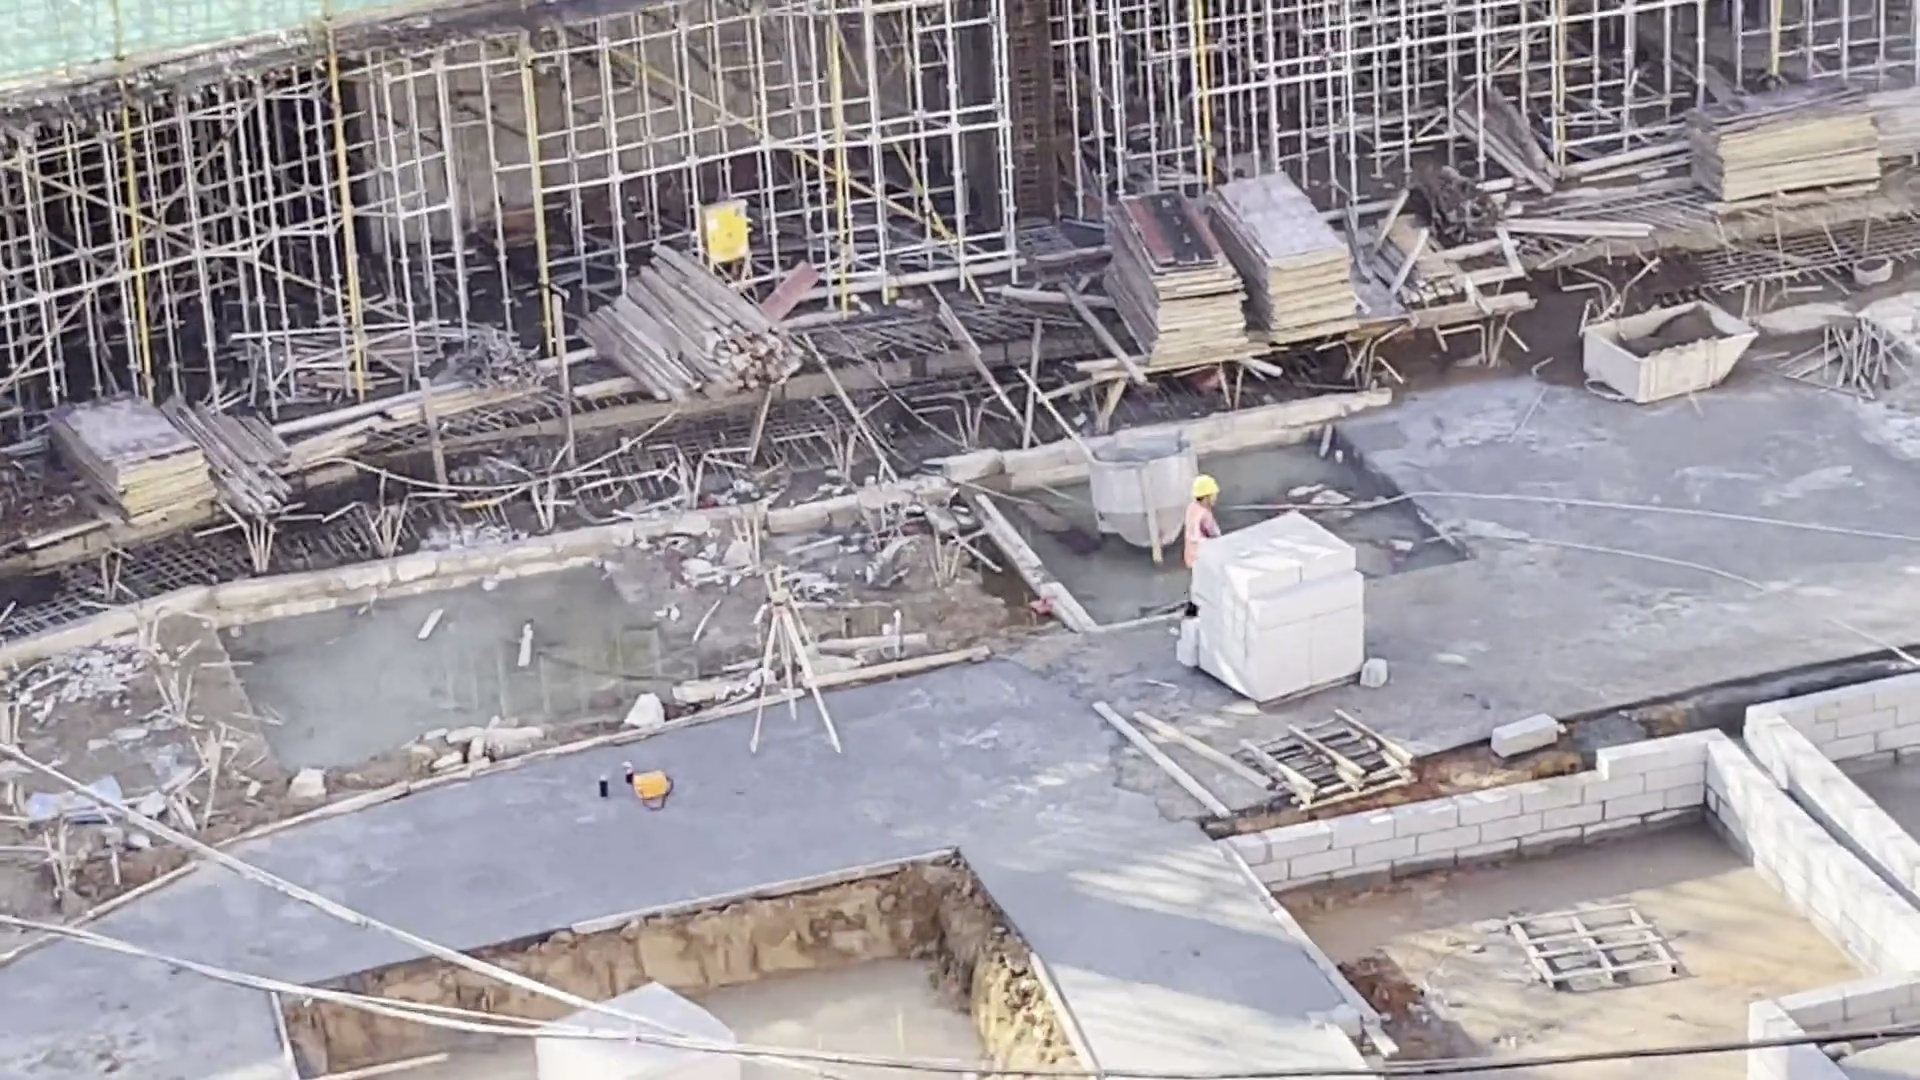board: (1678, 74, 1888, 216), (1095, 187, 1252, 375), (1206, 168, 1364, 348), (40, 386, 223, 534)
brick: (1194, 511, 1373, 704)
ebox: (699, 193, 763, 282)
helmet: (1188, 476, 1219, 497)
hopper: (1577, 297, 1762, 400), (1077, 426, 1178, 567)
person: (1181, 472, 1225, 546)
vest: (1185, 506, 1223, 539)
wood: (575, 242, 808, 404), (213, 397, 308, 534)
